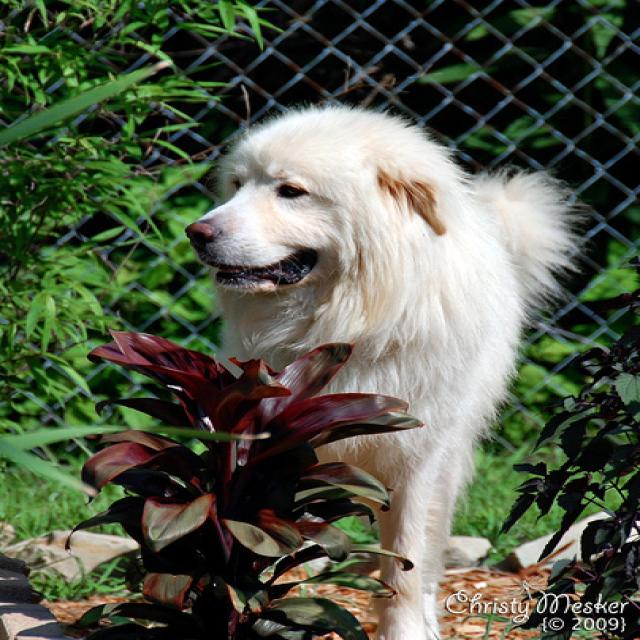dog-great_pyrenees: (168, 99, 600, 637)
